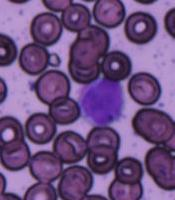L: (78, 77, 125, 127)
